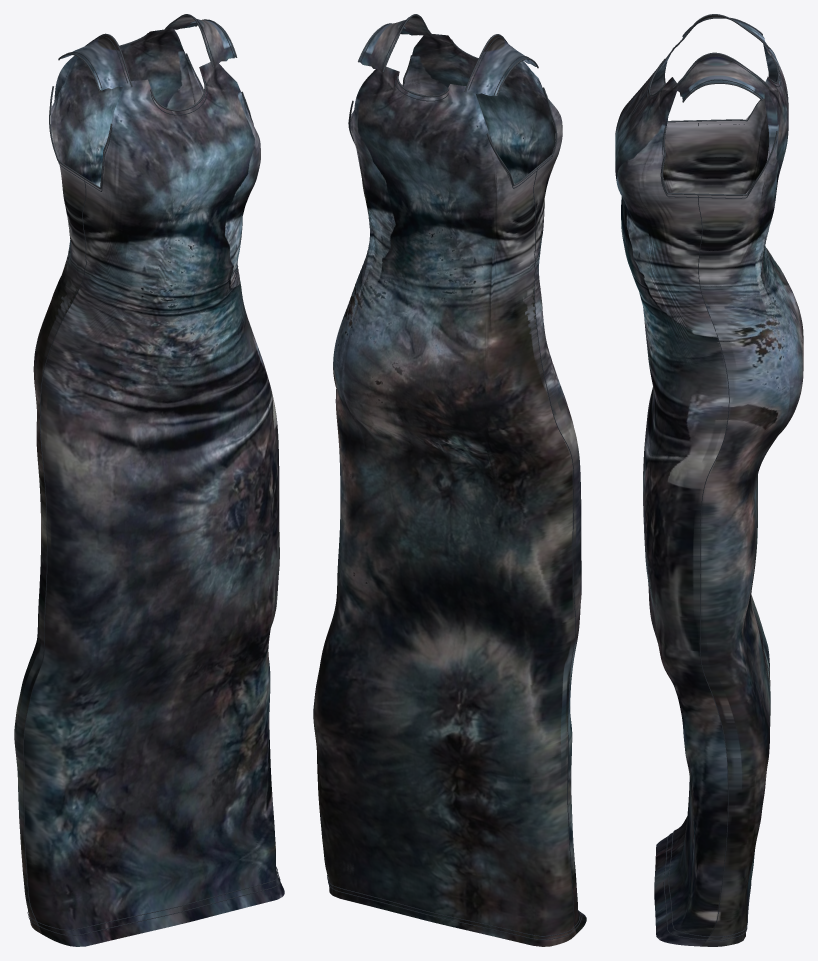
The model's file is vestido-largo-estampado_L.glb.
The picture shows the model from 3 angles, left to right: view 1: azimuth 30°, elevation 25°; view 2: azimuth 150°, elevation 25°; view 3: azimuth 270°, elevation 25°; orthographic projection. The views are drawn at different scales.
Visible parts, largest first — view 1: vestido-frente, vestido-espalda, tirante (×2), pespunte; view 2: vestido-espalda, vestido-frente, tirante (×2), pespunte; view 3: vestido-frente, vestido-espalda, tirante, pespunte, ribete.
Part boxes in pixels (bbox=[...]): vestido-frente: bbox=[24, 60, 284, 946]; vestido-espalda: bbox=[14, 28, 203, 934]; tirante (×2): bbox=[61, 15, 235, 90]; pespunte: bbox=[23, 179, 86, 930]; vestido-espalda: bbox=[313, 66, 576, 946]; vestido-frente: bbox=[403, 33, 586, 933]; tirante (×2): bbox=[358, 14, 536, 95]; pespunte: bbox=[533, 168, 575, 931]; vestido-frente: bbox=[615, 45, 728, 946]; vestido-espalda: bbox=[698, 43, 803, 946]; tirante: bbox=[677, 52, 769, 100]; pespunte: bbox=[698, 196, 729, 943]; ribete: bbox=[661, 127, 777, 195].
Bounding box in the file's own units: 0.4169 × 1.43 × 0.2844.
Materials: 3 (1 with a texture image).
